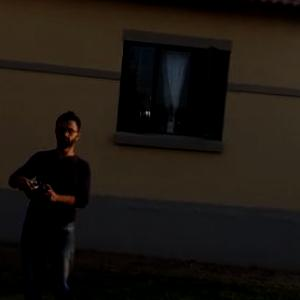follow: (7, 98, 97, 299)
